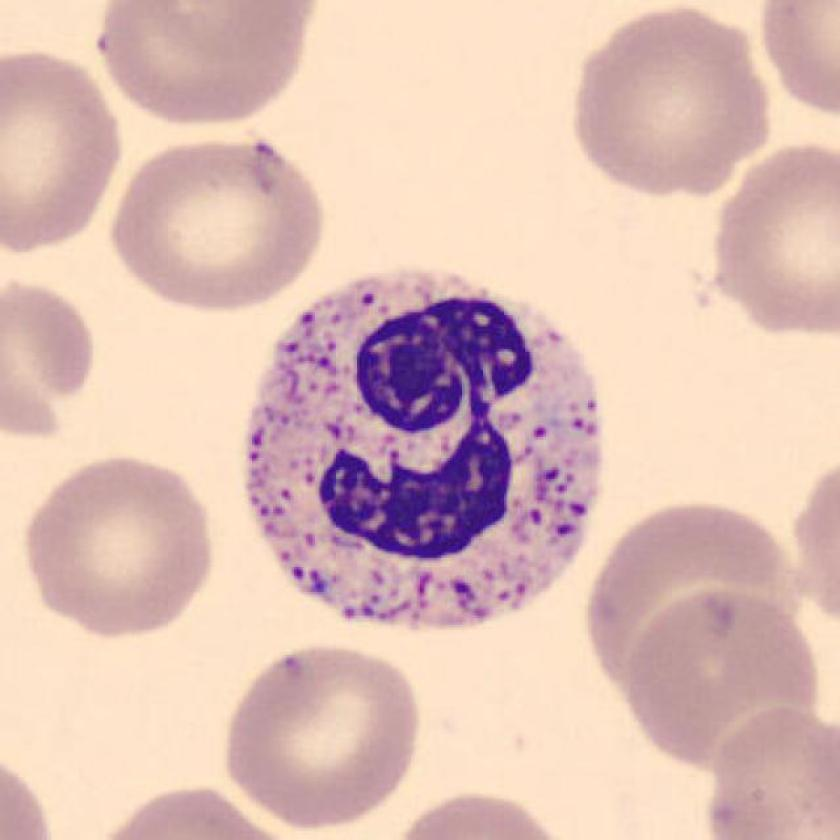neutrophil: (244, 270, 602, 628)
